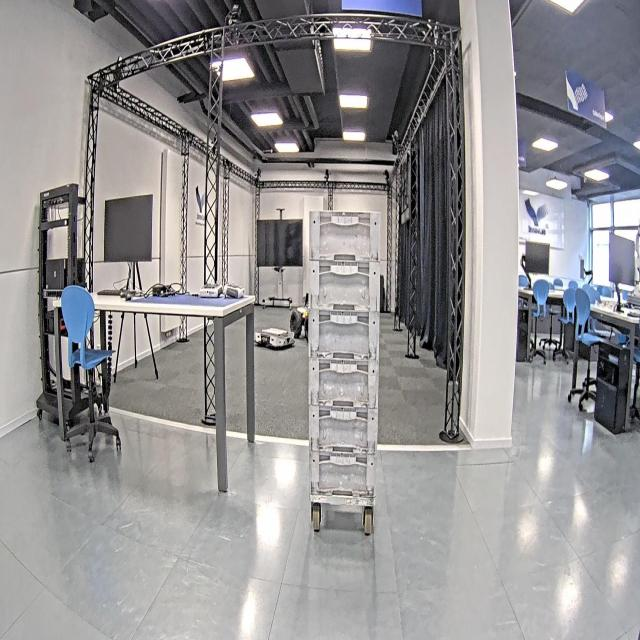Box3G: (308, 209, 382, 502)
